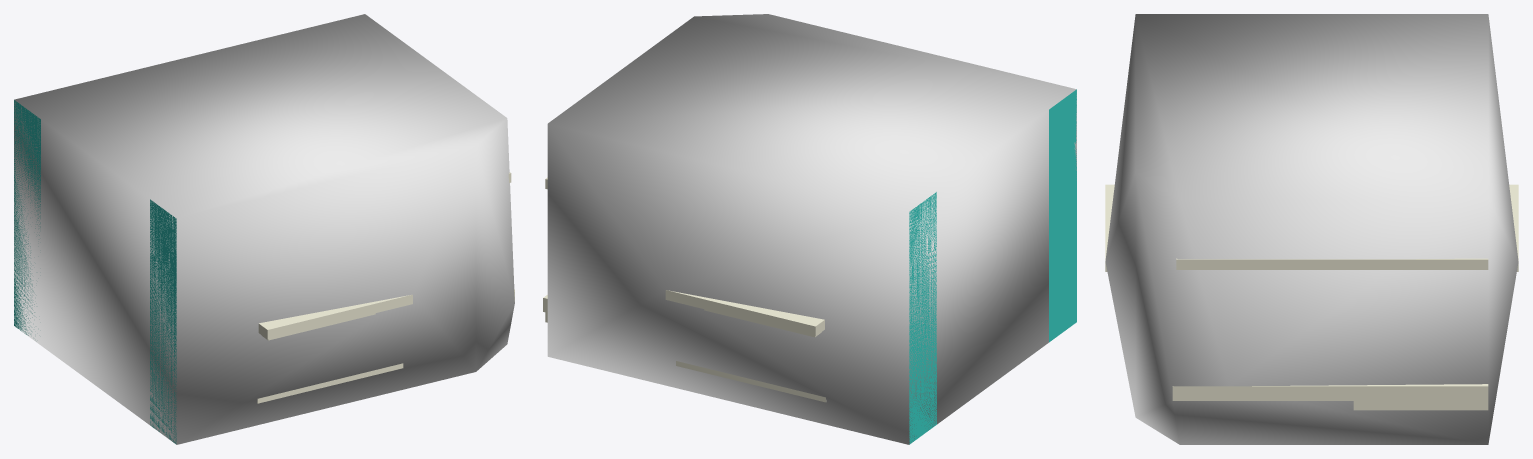
3 renders of one model, left to right at view 1: azimuth 30°, elevation 25°; view 2: azimuth 150°, elevation 25°; view 3: azimuth 270°, elevation 25°, orthographic. The views are drawn at different scales.
Visible parts, largest first — view 1: struct_city_block_tall_tier2_01_col, struct_city_block_tall_tier2_01; view 2: struct_city_block_tall_tier2_01_col, struct_city_block_tall_tier2_01; view 3: struct_city_block_tall_tier2_01_col, struct_city_block_tall_tier2_01.
Part boxes in pixels (x1,y1,x2,y2): struct_city_block_tall_tier2_01_col: (14,14,514,444); struct_city_block_tall_tier2_01: (14,100,514,444); struct_city_block_tall_tier2_01_col: (547,14,1076,444); struct_city_block_tall_tier2_01: (543,89,1076,444); struct_city_block_tall_tier2_01_col: (1105,14,1518,444); struct_city_block_tall_tier2_01: (1105,184,1518,410).
Bounding box in the file's own units: 9.13 × 5.55 × 8.48.
Materials: 2 (2 with a texture image).
